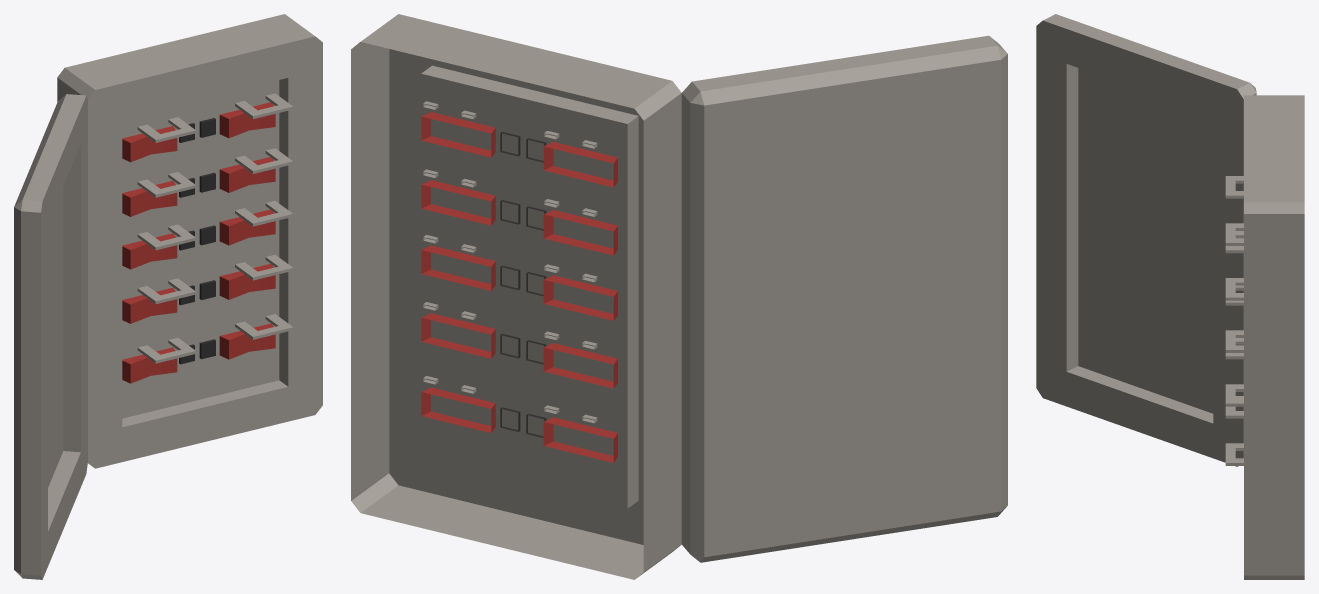
The model's file is jsmith_breakerBox1.fbx.
3 views of the same model, side by side, from view 1: azimuth 30°, elevation 25°; view 2: azimuth 150°, elevation 25°; view 3: azimuth 270°, elevation 25° (orthographic). The views are drawn at different scales.
Parts seen in each view (by area): view 1: polySurface18; view 2: polySurface18; view 3: polySurface18.
Part boxes in pixels (x1=…): polySurface18: x1=14, y1=14, x2=322, y2=579; polySurface18: x1=351, y1=14, x2=1007, y2=579; polySurface18: x1=1036, y1=14, x2=1304, y2=579.
Bounding box in the file's own units: 7.34 × 6.63 × 4.28.
